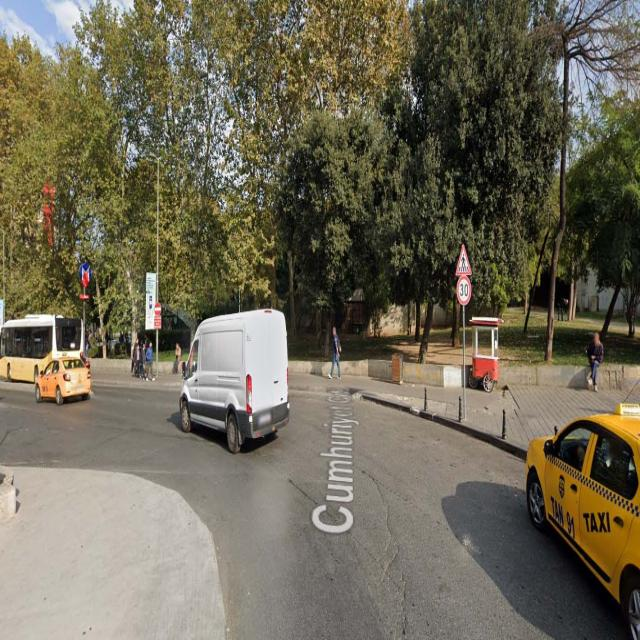30: (456, 277, 472, 306)
girisyok: (154, 303, 162, 316)
